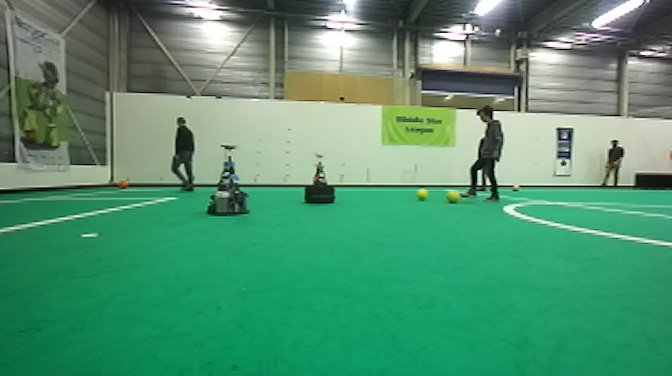ball: (445, 187, 460, 205), (415, 185, 428, 201), (115, 176, 126, 189), (509, 181, 520, 192)
human: (461, 106, 502, 204), (169, 116, 197, 191), (603, 138, 626, 189)
robot: (205, 143, 252, 217), (305, 154, 337, 205)
